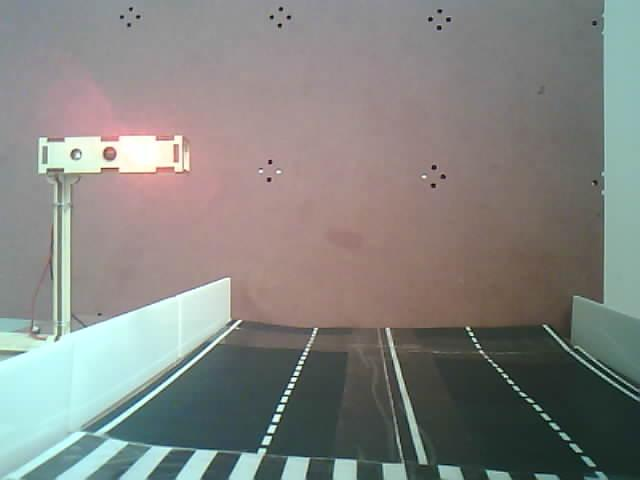crosswalk: (0, 414, 640, 480)
red: (33, 128, 210, 180)
